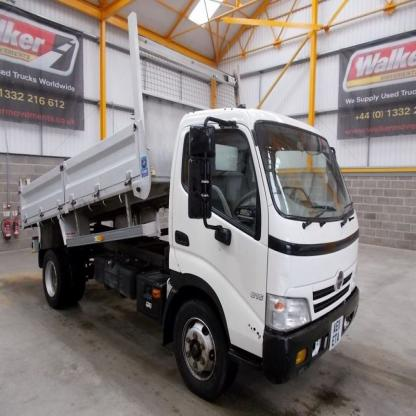dump_truck: (18, 19, 360, 399)
